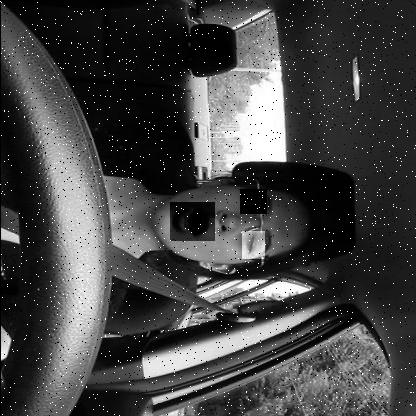seatbelt: (0, 165, 341, 299)
